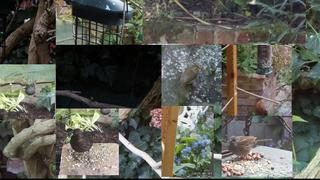blackbird: (70, 128, 99, 165)
dunnock: (228, 136, 272, 162)
robin: (178, 65, 202, 90)
sparrow: (22, 84, 35, 97)
